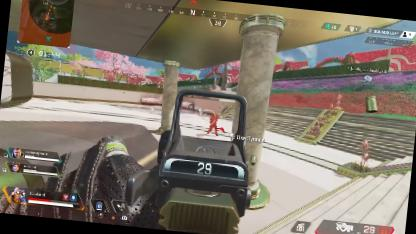Target: (208, 113, 220, 136)
